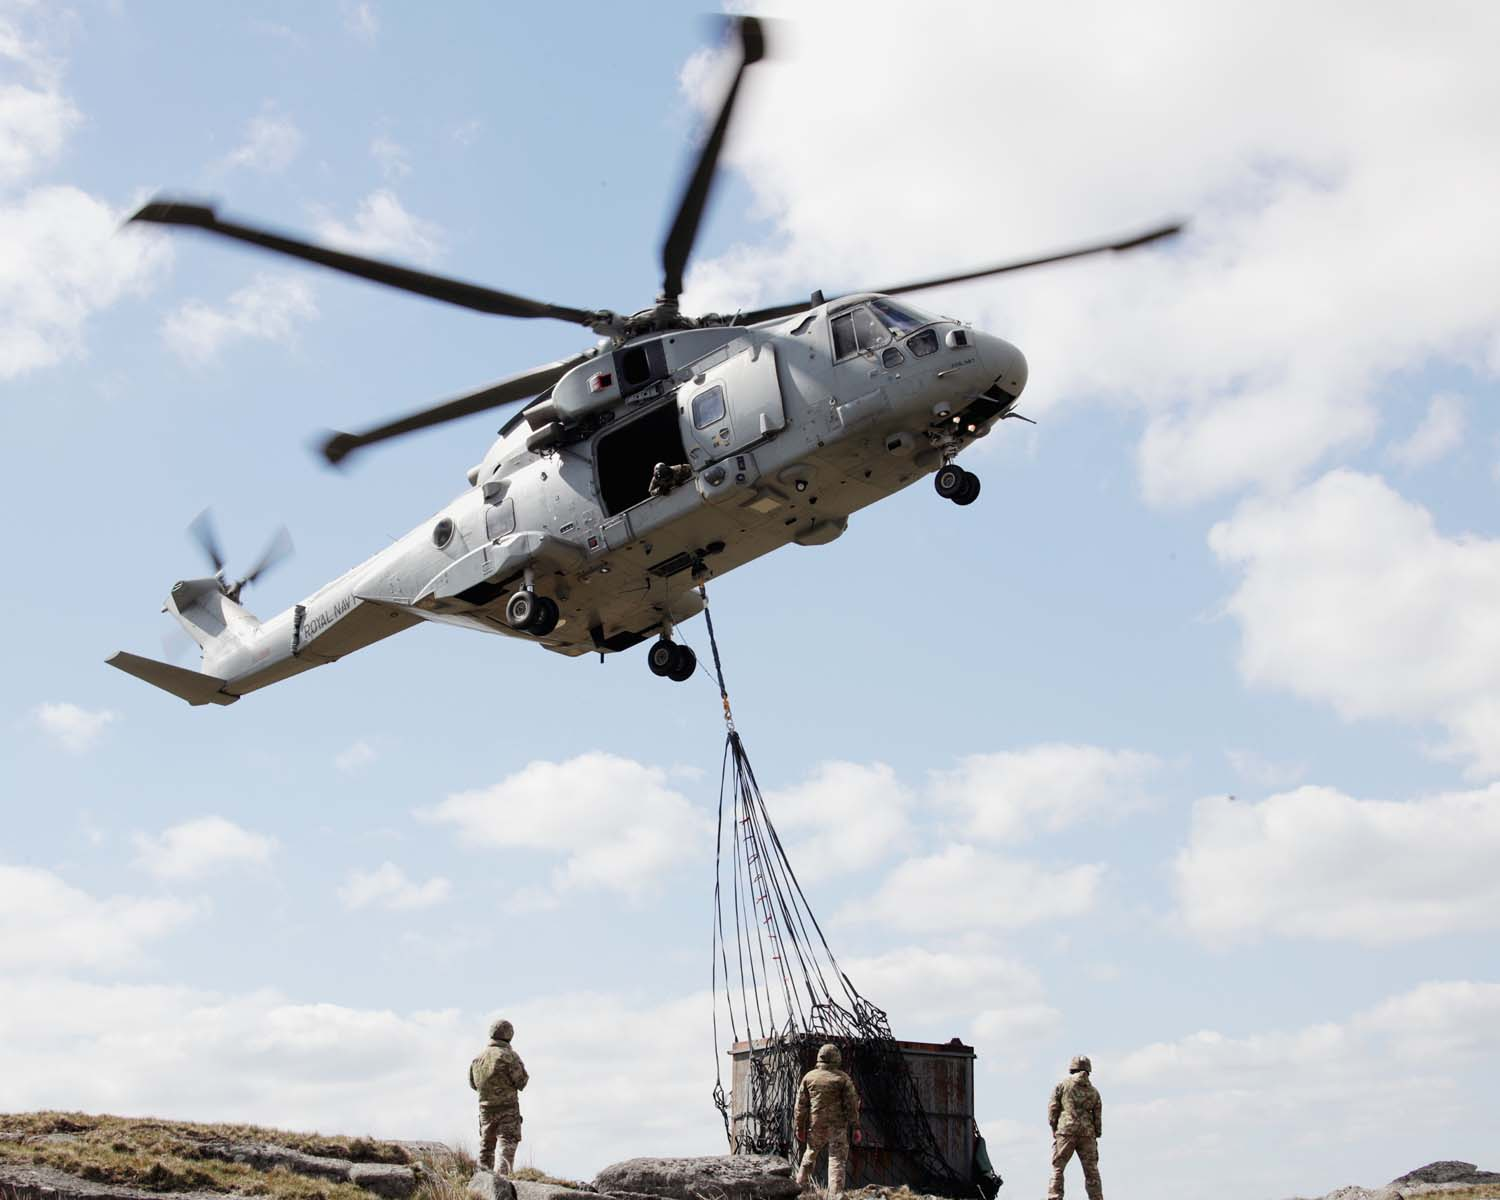Merlin: (96, 264, 1062, 726)
